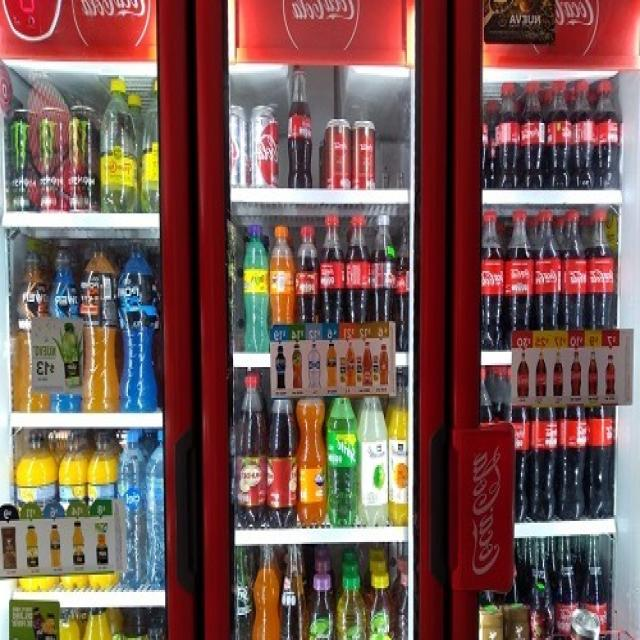coca cola: (465, 433, 511, 599), (281, 0, 364, 39)
